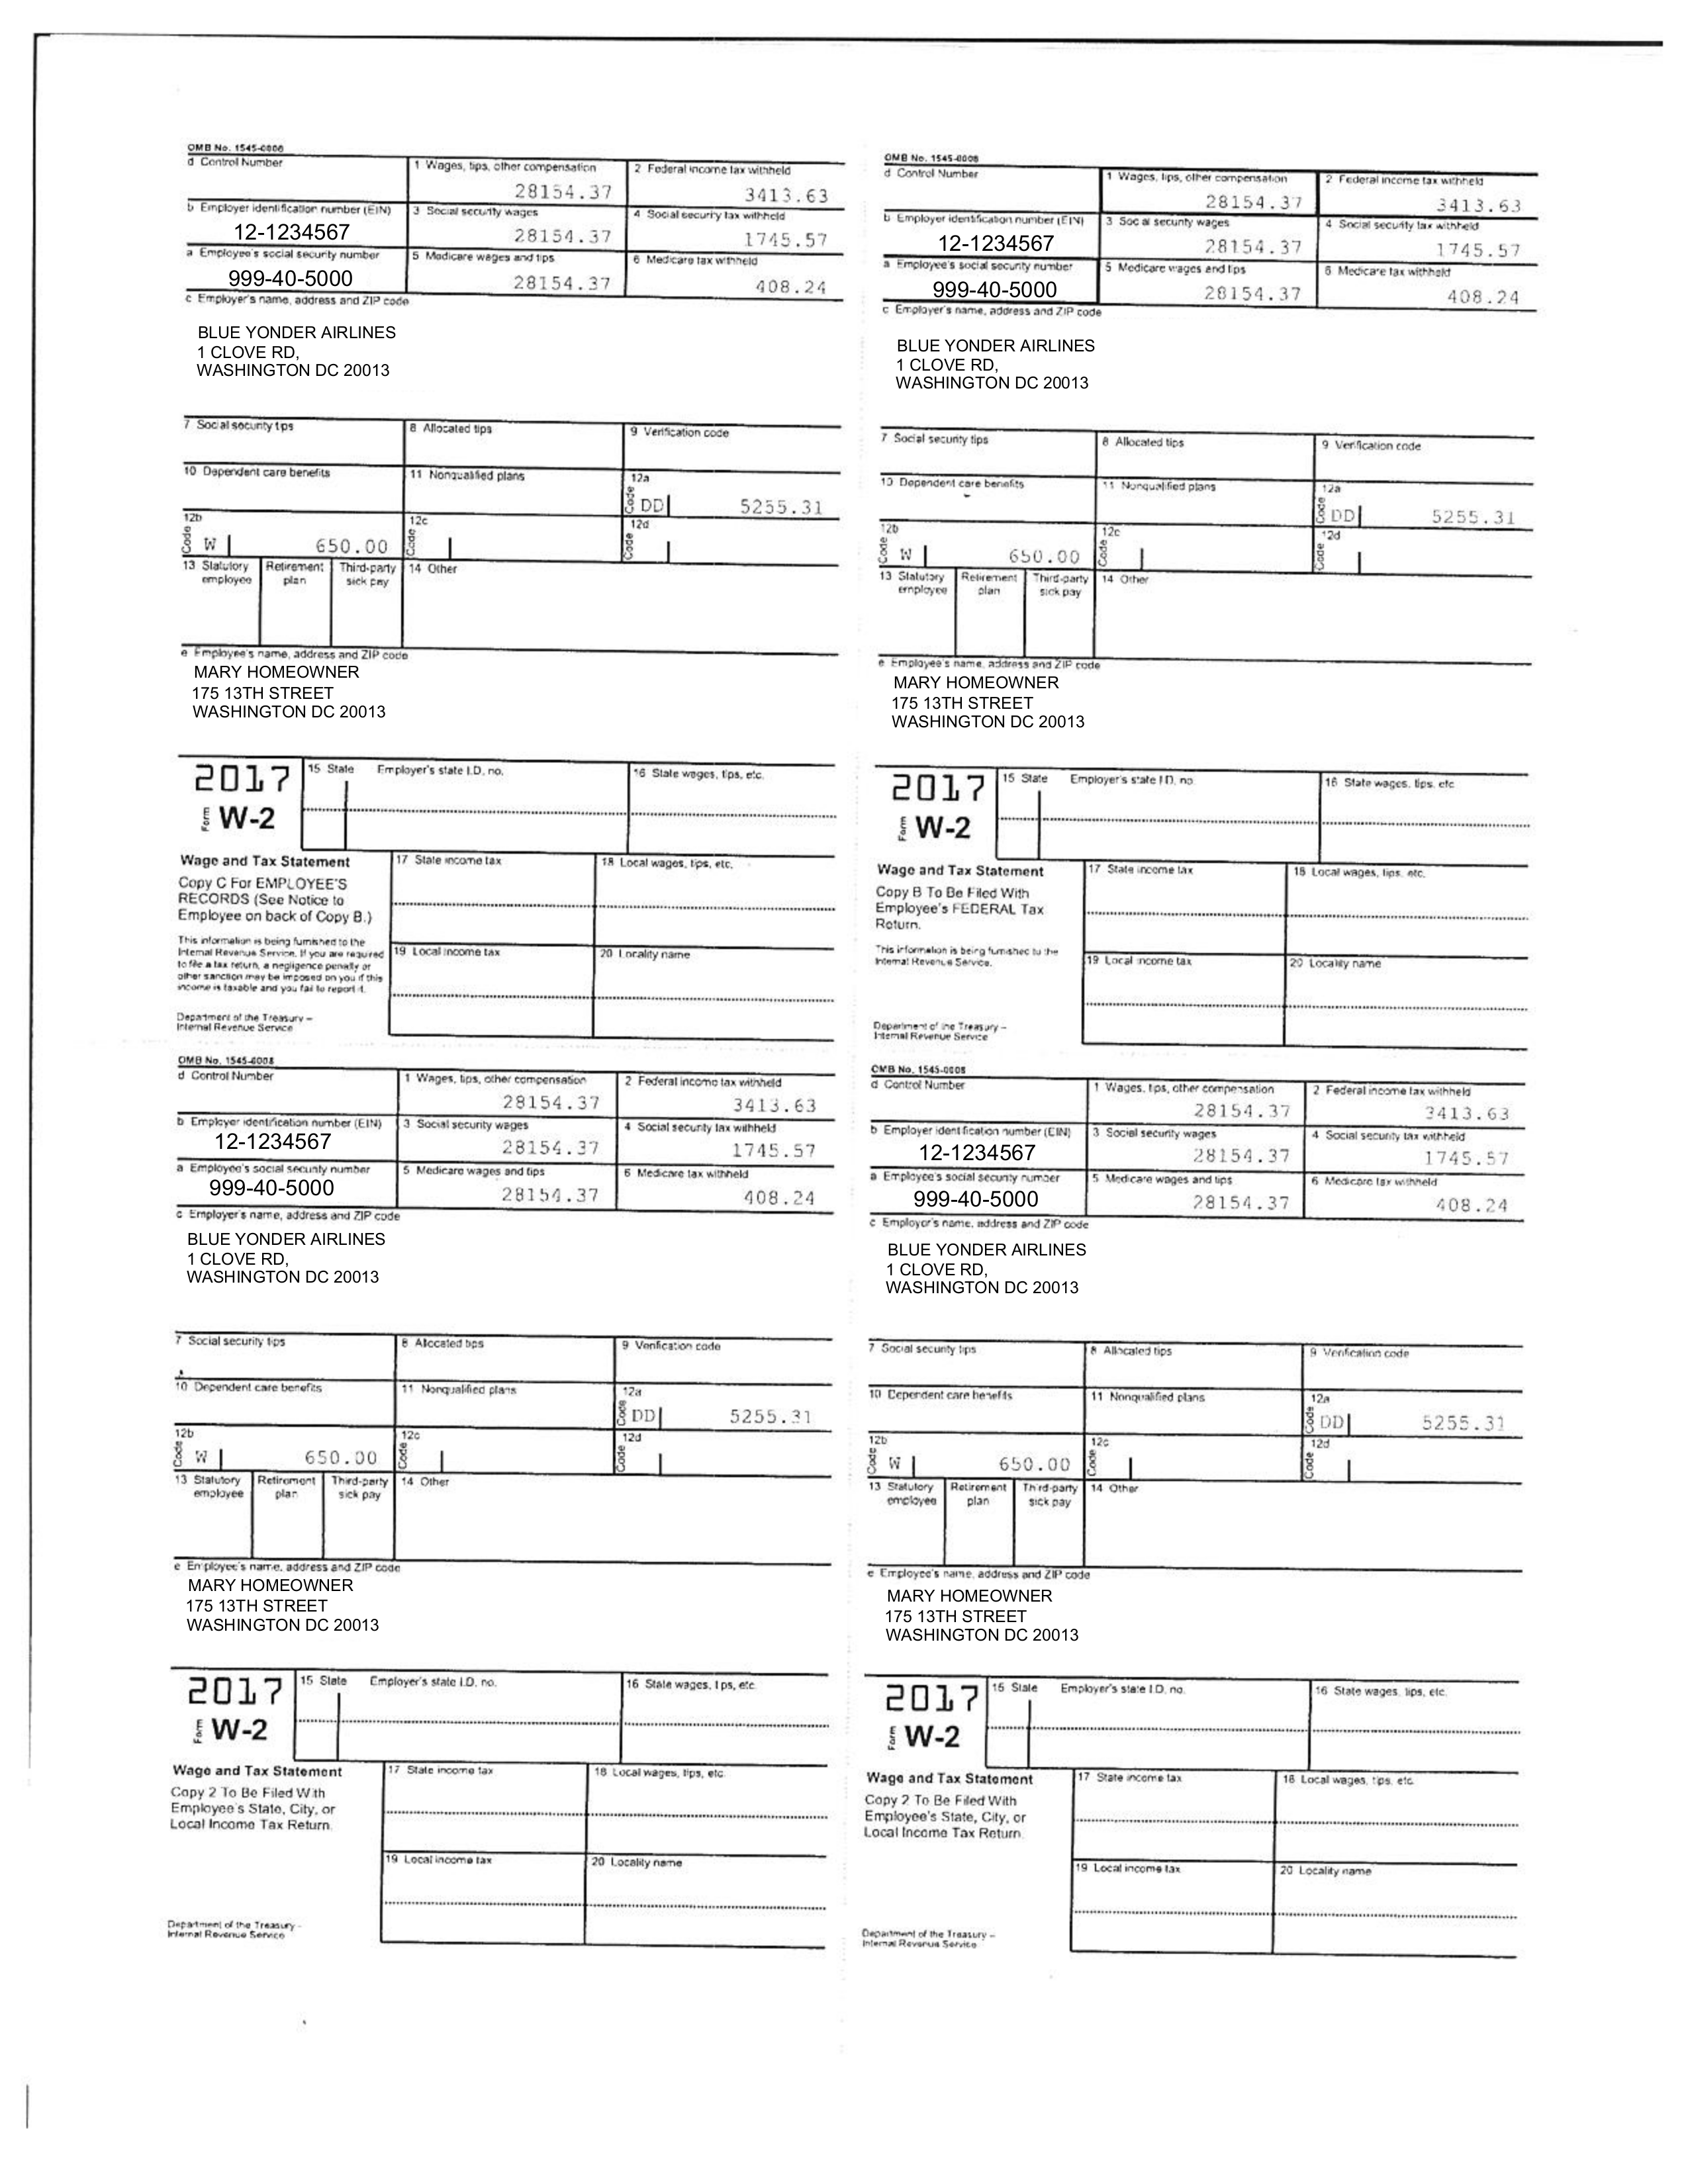table: (174, 152, 849, 1048), (867, 161, 1541, 1055), (165, 1064, 840, 1952), (858, 1072, 1528, 1962)
